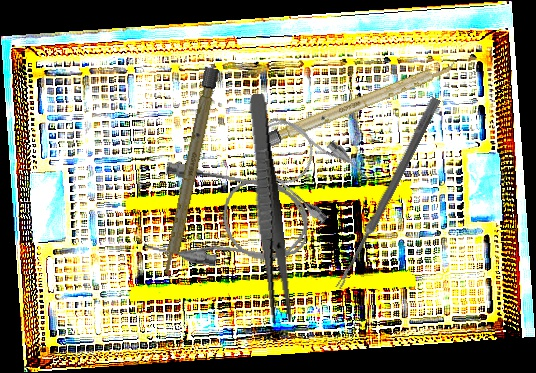Cannula: (142, 160, 315, 280), (238, 99, 375, 230)
Dressing Forceps: (241, 92, 295, 325)
Scalpel Handle: (258, 58, 458, 150), (160, 66, 220, 280)
Surgical Spoon: (334, 96, 441, 291)
